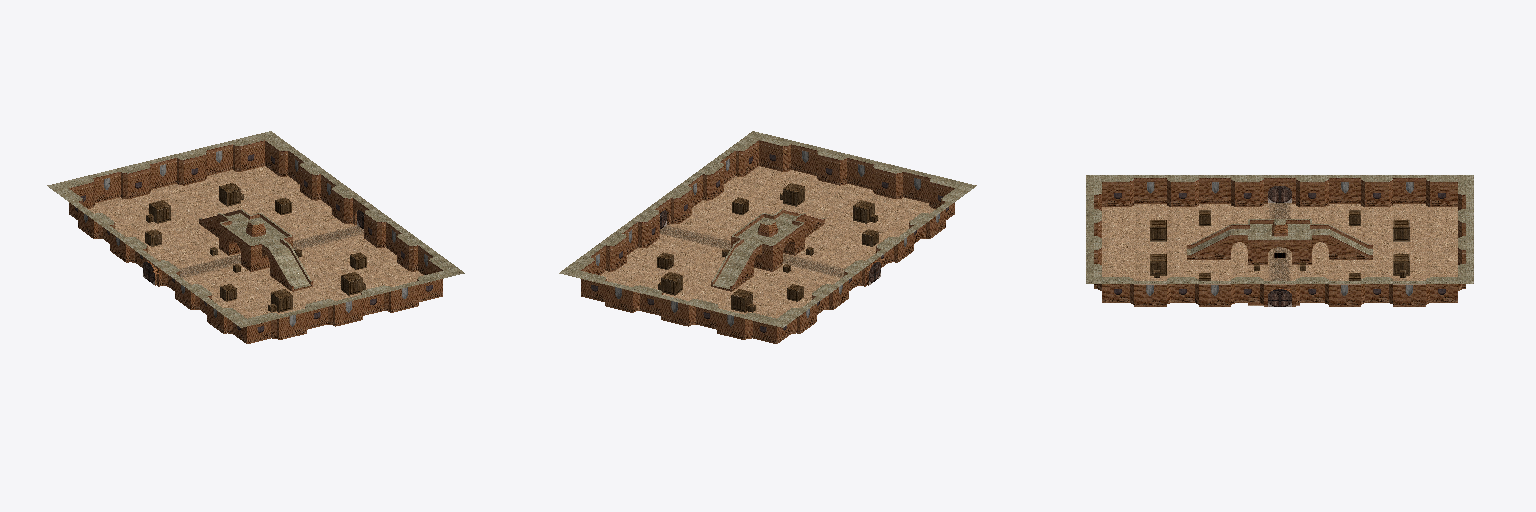
The picture shows the model from 3 angles: view 1: azimuth 30°, elevation 25°; view 2: azimuth 150°, elevation 25°; view 3: azimuth 270°, elevation 25°; orthographic projection.
Visible parts, largest first — view 1: BSP_Object_model_0; view 2: BSP_Object_model_0; view 3: BSP_Object_model_0.
Boxes of the visible parts, <box> form: BSP_Object_model_0: <box>47,131,464,343</box>; BSP_Object_model_0: <box>559,131,976,343</box>; BSP_Object_model_0: <box>1086,175,1473,306</box>.
Bounding box in the file's own units: 2048 × 626 × 3072.
Materials: 16 (14 with a texture image).